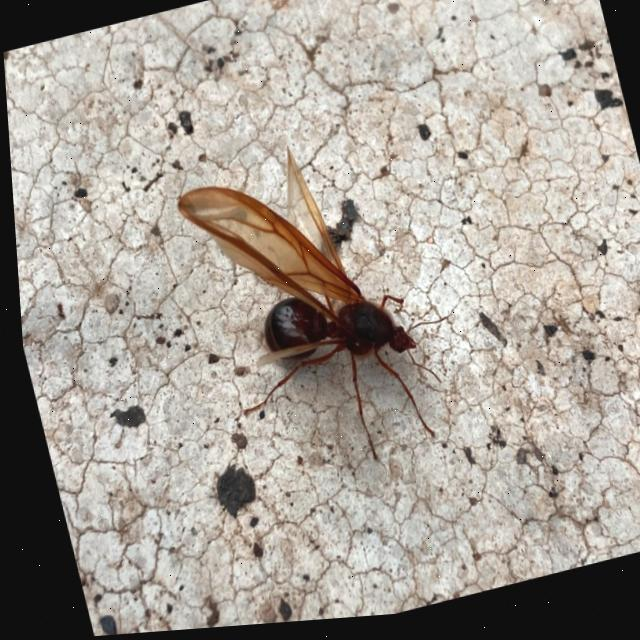Alive-Male-Alate: (165, 120, 473, 500)
